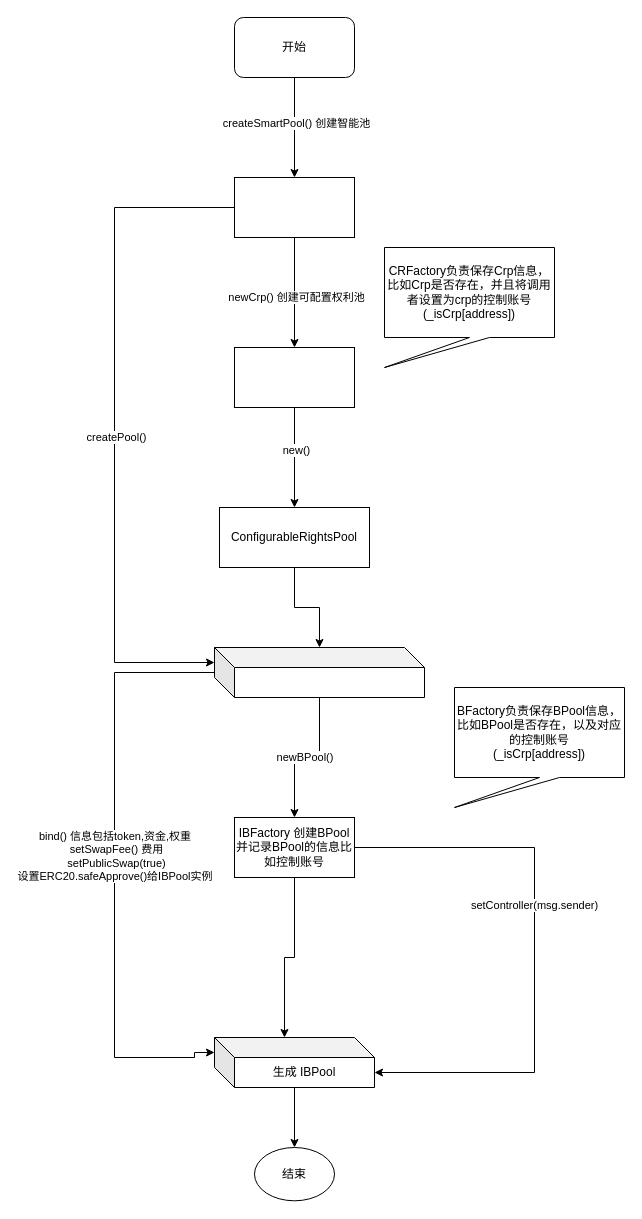
The diagram is 642 pixels wide and 1219 high, and some of its shapes have lost their labels. The centre of each missing label's shape, as x and y in pixels:
"BActions 初始资金存入这里，之后向下转移" goes at [294,207].
"CRPFactory" goes at [294,377].
"生成 ConfigurableRightsPool 初始资金转入这里" goes at [319,672].
